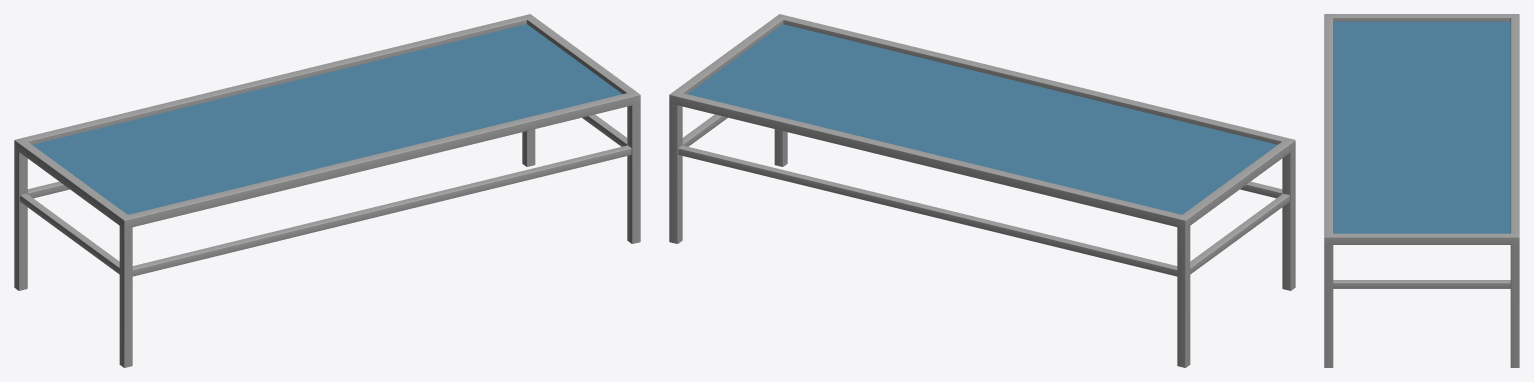
File: playstation table.fbx
3 renders of one model, left to right at view 1: azimuth 30°, elevation 25°; view 2: azimuth 150°, elevation 25°; view 3: azimuth 270°, elevation 25°, orthographic. The views are drawn at different scales.
Visible parts, largest first — view 1: pCube1; view 2: pCube1; view 3: pCube1.
Boxes of the visible parts, x1,y1,x2,y2 form: pCube1: (14, 14, 640, 367); pCube1: (669, 14, 1295, 367); pCube1: (1324, 14, 1519, 367).
Size of the model in its own units: 2.98 by 0.8138 by 1.1.
